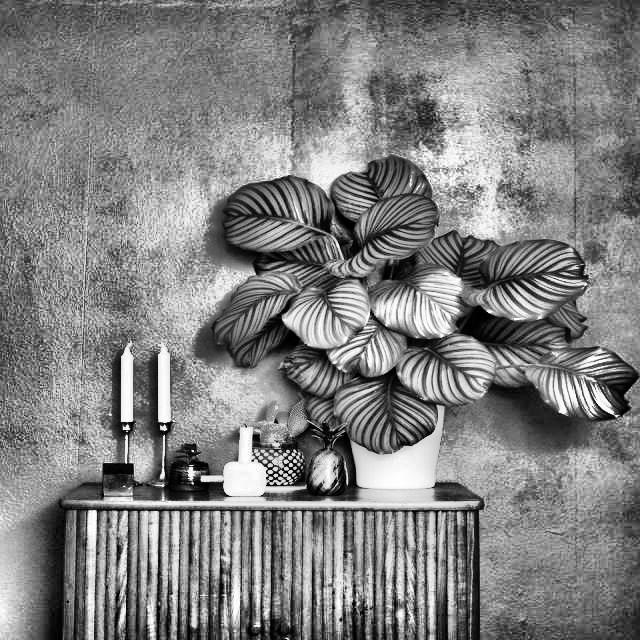plants: (235, 178, 594, 487)
